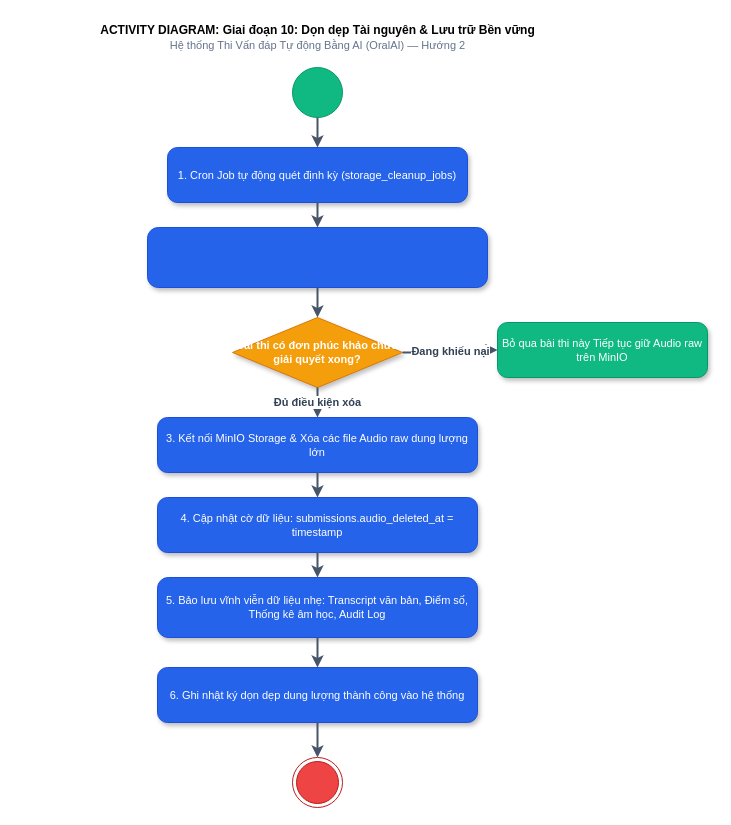
Some shapes in this 731 by 825 pixel diagram are drawn without their labels. Each missing label, with the centre of its shape:
2. Kiểm tra hạn lưu trữ: Thời gian thi + Buffer đệm khiếu nại (30 ngày): point (318, 258)
Kích hoạt Cronjob: point (317, 92)
Kết thúc vòng đời Lưu trữ bền vững: point (317, 782)
